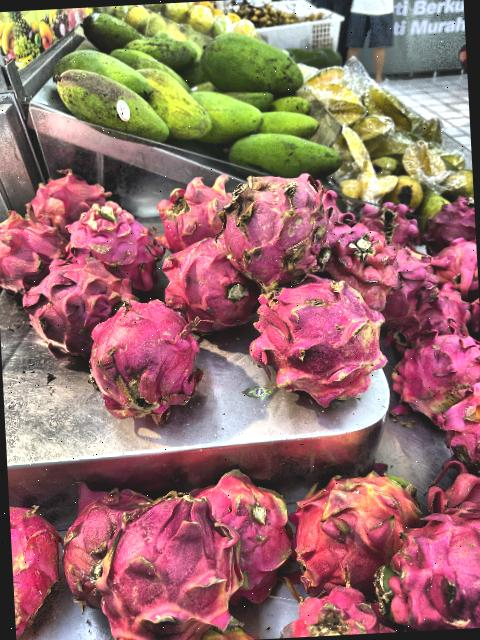buah-naga-belum-matang: (287, 456, 428, 584)
buah-naga-matang: (86, 484, 254, 640), (248, 280, 396, 402), (85, 296, 209, 422), (196, 462, 300, 604), (17, 257, 138, 372), (220, 174, 338, 288), (372, 511, 480, 633), (58, 476, 160, 590), (158, 239, 262, 334), (66, 204, 170, 291), (9, 500, 70, 630), (324, 209, 398, 306), (393, 329, 480, 411), (276, 584, 389, 638), (154, 175, 232, 244), (23, 166, 111, 224), (0, 202, 59, 284), (386, 250, 436, 320), (358, 197, 426, 245), (422, 460, 480, 512), (419, 194, 476, 246), (428, 240, 479, 298), (448, 379, 480, 469), (430, 281, 468, 333)
